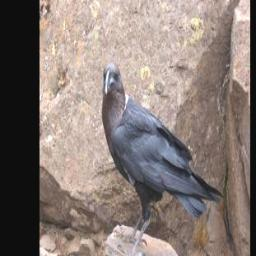Crow: (102, 60, 224, 256)
